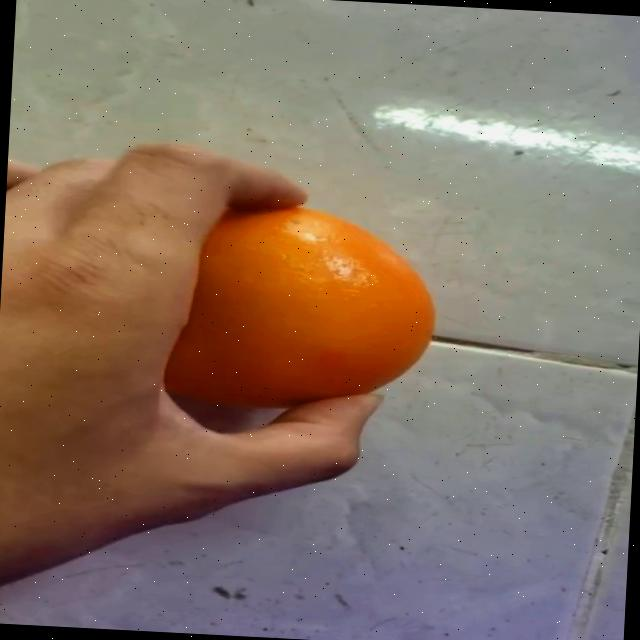orange: (104, 186, 477, 418)
